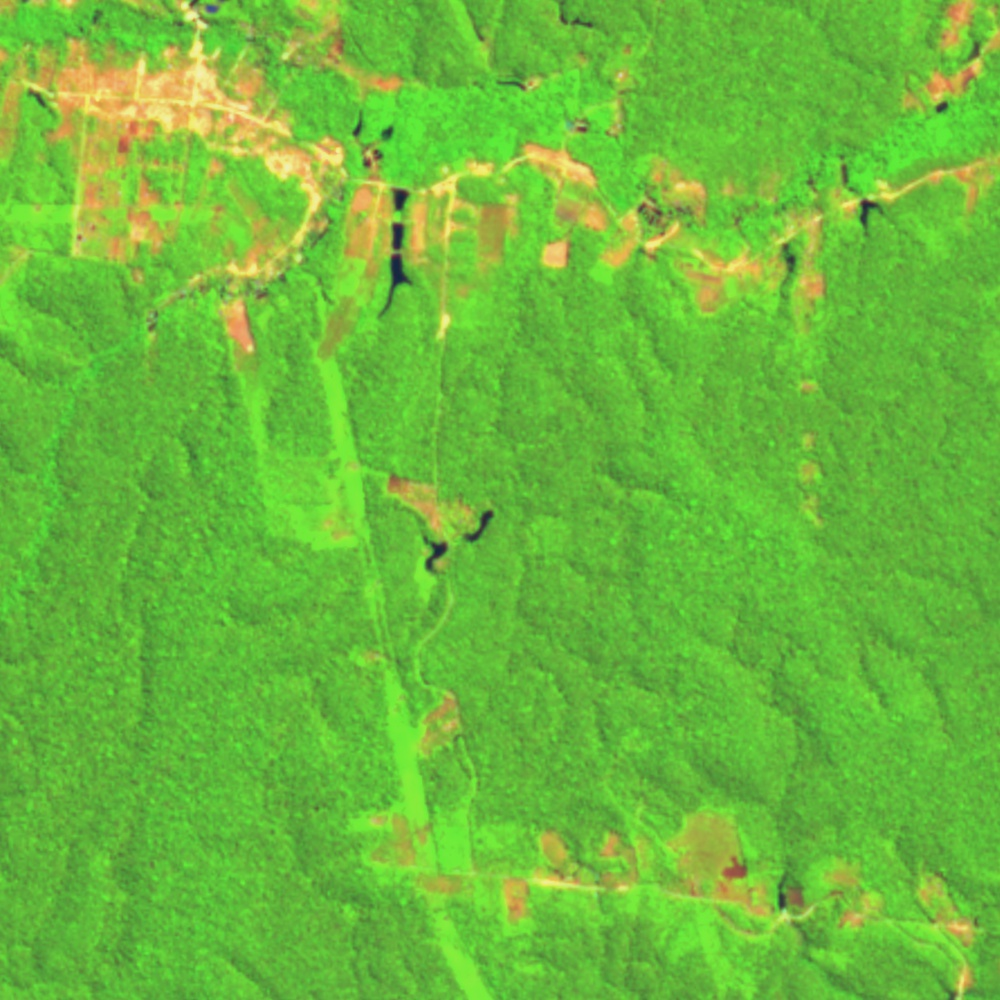legal: (1, 1, 351, 270), (491, 804, 978, 992), (613, 152, 1000, 320), (350, 120, 610, 275), (137, 190, 320, 354), (361, 690, 463, 898), (277, 1, 404, 101), (387, 466, 494, 577), (898, 1, 1000, 114), (315, 275, 454, 334), (294, 455, 373, 546), (489, 46, 589, 90), (798, 430, 828, 524), (458, 1, 491, 71), (605, 82, 635, 136), (555, 106, 594, 139), (555, 1, 596, 30), (794, 377, 822, 397), (616, 65, 635, 80), (620, 41, 635, 51)
